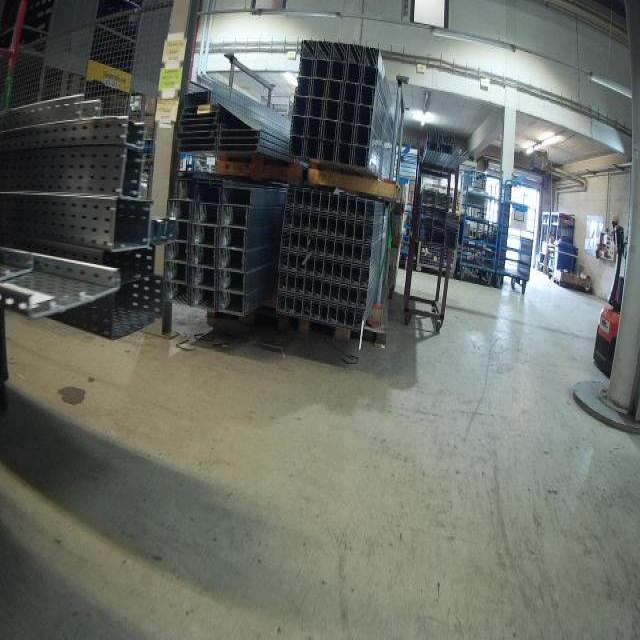pallet: (294, 316, 390, 351), (205, 303, 290, 335), (553, 277, 591, 295)
pallet_truck: (587, 215, 630, 387)
stillage: (418, 215, 460, 279), (414, 176, 462, 217)
